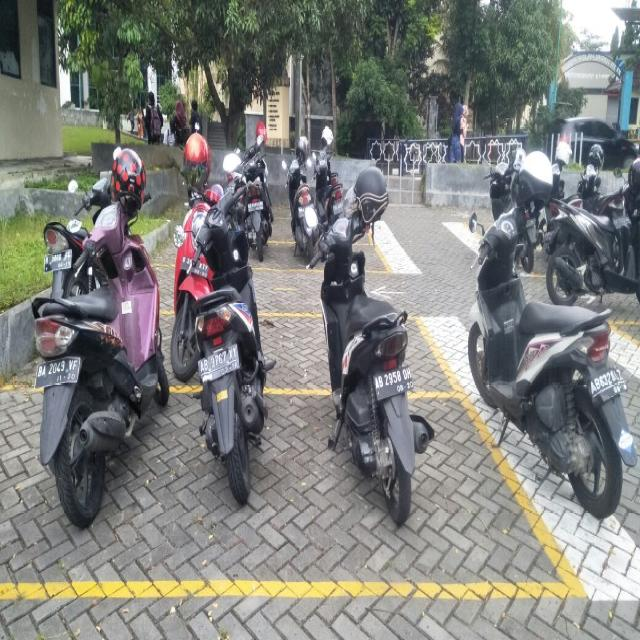plate: (590, 363, 627, 405), (371, 363, 414, 397), (197, 345, 240, 374), (35, 355, 78, 383), (180, 254, 207, 277), (44, 248, 72, 270), (247, 199, 263, 212)
